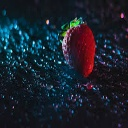strawberry: (60, 16, 96, 78)
